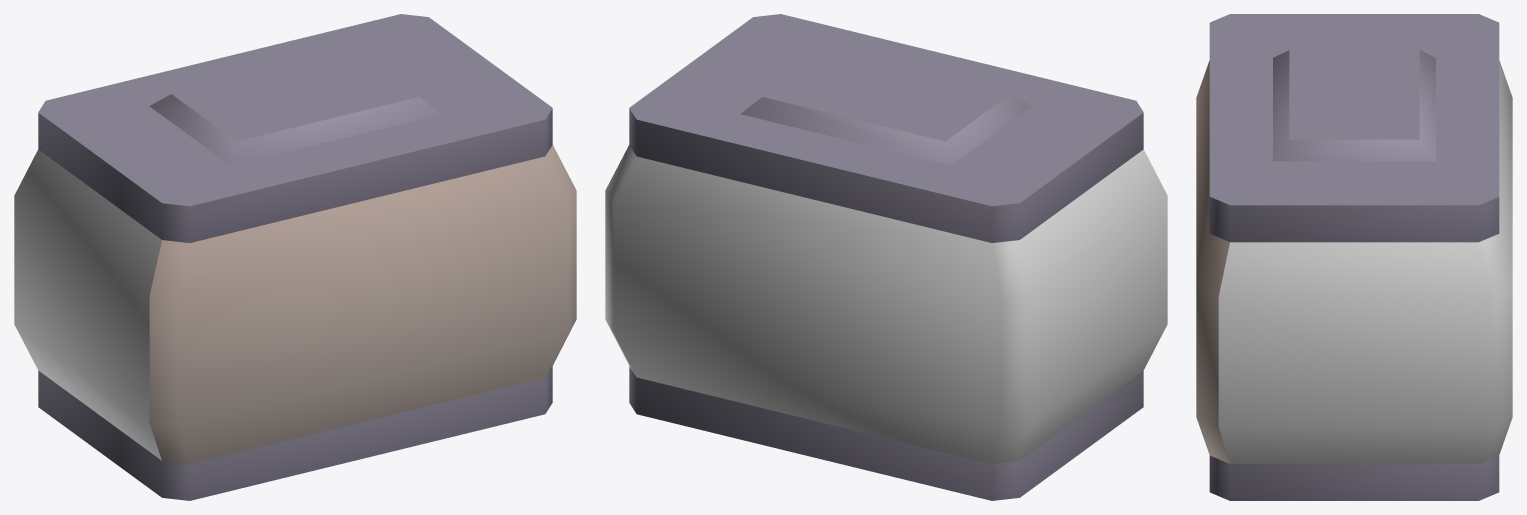
Rendered from terrarium-snake.glb.
The picture shows the model from 3 angles, left to right: view 1: azimuth 30°, elevation 25°; view 2: azimuth 150°, elevation 25°; view 3: azimuth 270°, elevation 25°; orthographic projection.
Visible parts, largest first — view 1: terrarium-snake; view 2: terrarium-snake; view 3: terrarium-snake.
Boxes of the visible parts, box(x1,y1,x2,y2) form: terrarium-snake: box(14, 14, 576, 500); terrarium-snake: box(605, 14, 1167, 500); terrarium-snake: box(1196, 14, 1512, 500).
Bounding box in the file's own units: 0.6063 × 0.42 × 0.3878.
